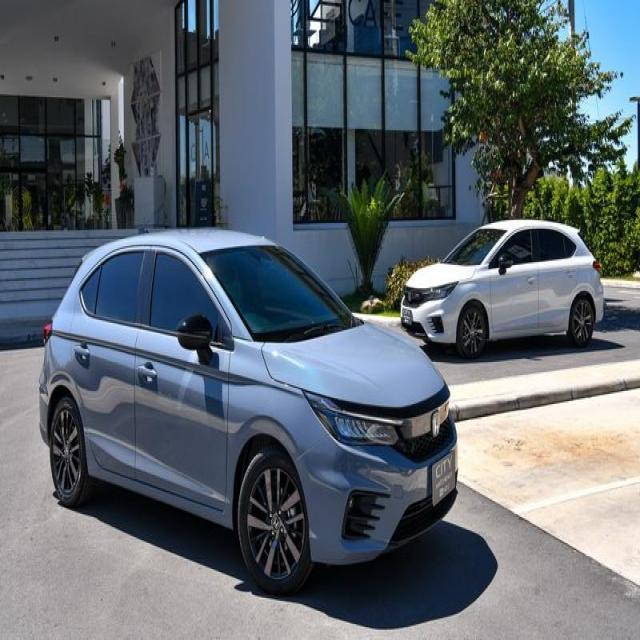Hatchback: (38, 227, 458, 598)
